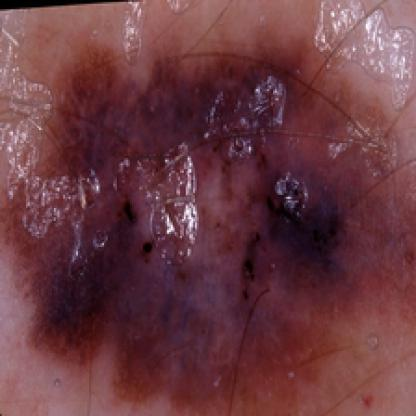malignant: (28, 61, 388, 366)
